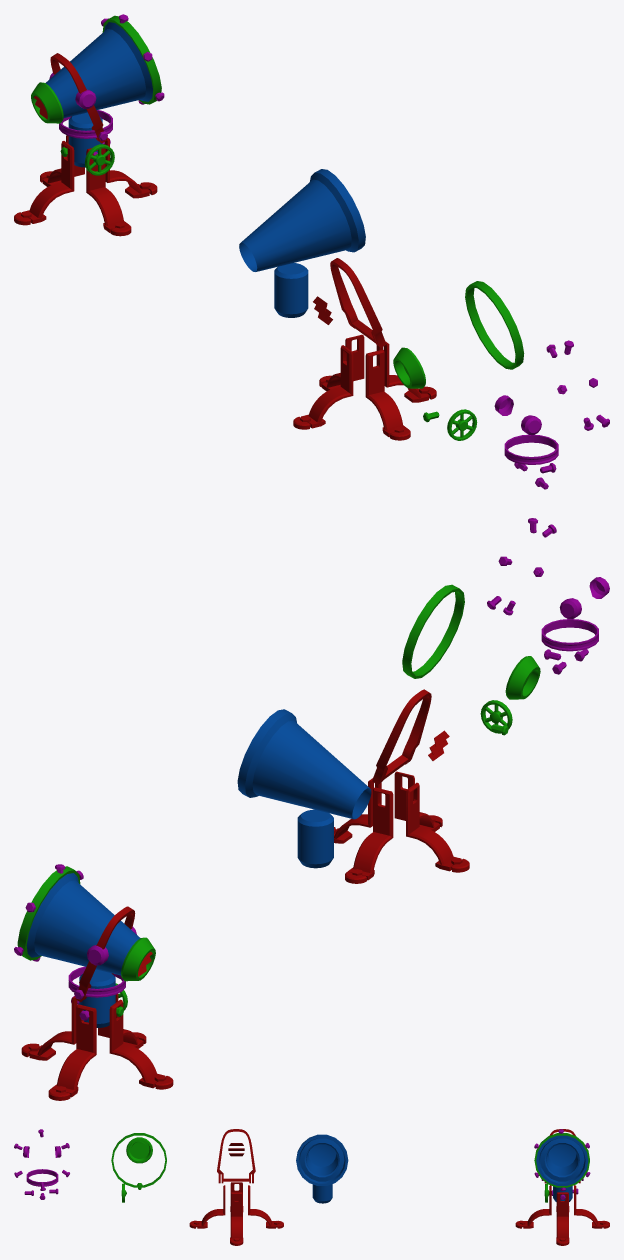
File: turet_sub.fbx
3 views of the same model, one above another, from view 1: azimuth 30°, elevation 25°; view 2: azimuth 150°, elevation 25°; view 3: azimuth 270°, elevation 25° (orthographic). The views are drawn at different scales.
Parts seen in each view (by area): view 1: Cylinder173, Cylinder078, Object036, Box041, Cylinder174, Object035, Line007, Box044, Box039, Box033, Tube005, Cylinder079 (+7 smaller); view 2: Cylinder173, Cylinder078, Object036, Box045, Box040, Cylinder174, Object035, Line007, Box044, Box039, Cylinder079, Tube005 (+3 smaller); view 3: Cylinder173, Cylinder078, Object036, Box043, Box037, Line007, Object035, Box033, Box041, Box040, Box045, Cylinder174 (+2 smaller).
Boxes of the visible parts, x1,y1,x2,y2 form: Cylinder173: (239, 169, 365, 271); Cylinder078: (46, 22, 152, 117); Object036: (393, 281, 524, 388); Box041: (365, 349, 410, 440); Cylinder174: (274, 263, 308, 317); Object035: (31, 15, 161, 123); Line007: (330, 258, 385, 347); Box044: (293, 345, 353, 429); Box039: (14, 141, 74, 225); Box033: (86, 148, 131, 236); Tube005: (504, 434, 558, 464); Cylinder079: (68, 112, 102, 167); Cylinder173: (237, 709, 371, 819); Cylinder078: (26, 873, 140, 975); Object036: (402, 584, 540, 699); Box045: (345, 787, 393, 883); Box040: (48, 1004, 96, 1100); Cylinder174: (297, 809, 333, 868); Object035: (17, 866, 155, 981); Line007: (372, 689, 431, 784); Box044: (406, 782, 469, 872); Box039: (109, 999, 173, 1089); Cylinder079: (79, 969, 115, 1027); Tube005: (541, 619, 598, 651); Cylinder173: (296, 1134, 348, 1185); Cylinder078: (536, 1135, 588, 1185); Object036: (111, 1133, 166, 1187); Box043: (230, 1192, 243, 1245); Box037: (556, 1192, 569, 1245); Line007: (217, 1129, 255, 1183); Object035: (534, 1133, 589, 1187); Box033: (515, 1185, 551, 1228); Box041: (189, 1185, 225, 1228); Box040: (574, 1185, 609, 1228); Box045: (248, 1185, 283, 1228); Cylinder174: (312, 1184, 332, 1203).
Size of the model in its own units: 8195 by 51761 by 10204.
